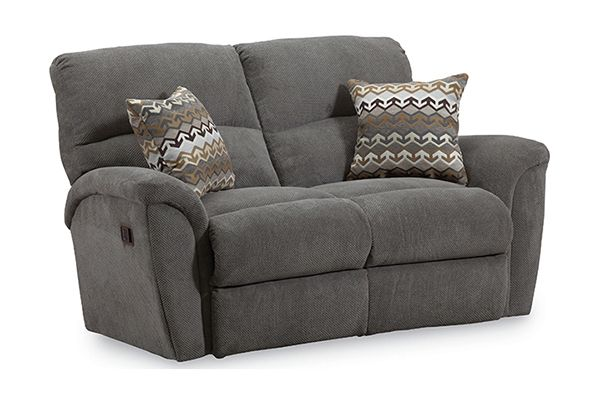chairs: (44, 33, 554, 365)
